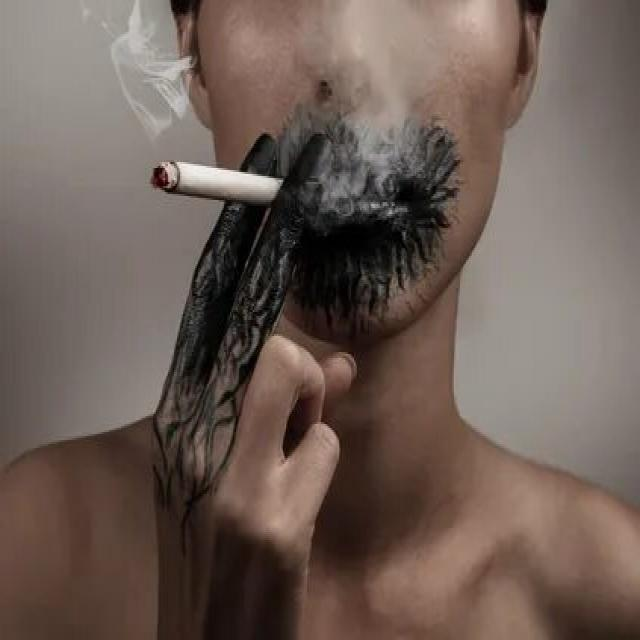smoke: (150, 156, 290, 222)
